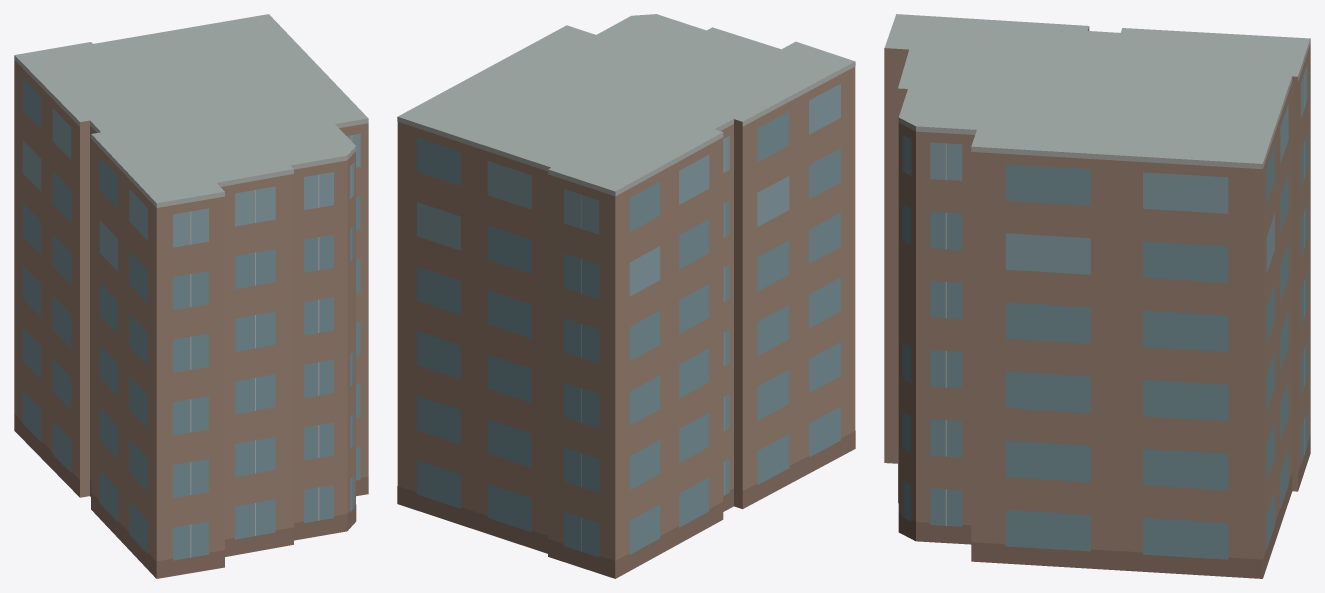
Rendered from survey-upis-32943412.glb.
3 views of the same model, side by side, from view 1: azimuth 30°, elevation 25°; view 2: azimuth 150°, elevation 25°; view 3: azimuth 270°, elevation 25° (orthographic). The views are drawn at different scales.
Parts seen in each view (by area): view 1: survey-upis-32943412.tmp; view 2: survey-upis-32943412.tmp; view 3: survey-upis-32943412.tmp.
Part boxes in pixels (box(x1,y1,x2,y2)): survey-upis-32943412.tmp: box(14, 14, 368, 578); survey-upis-32943412.tmp: box(397, 14, 855, 578); survey-upis-32943412.tmp: box(884, 14, 1310, 578).
Bounding box in the file's own units: 14.97 × 19.3 × 17.97.
